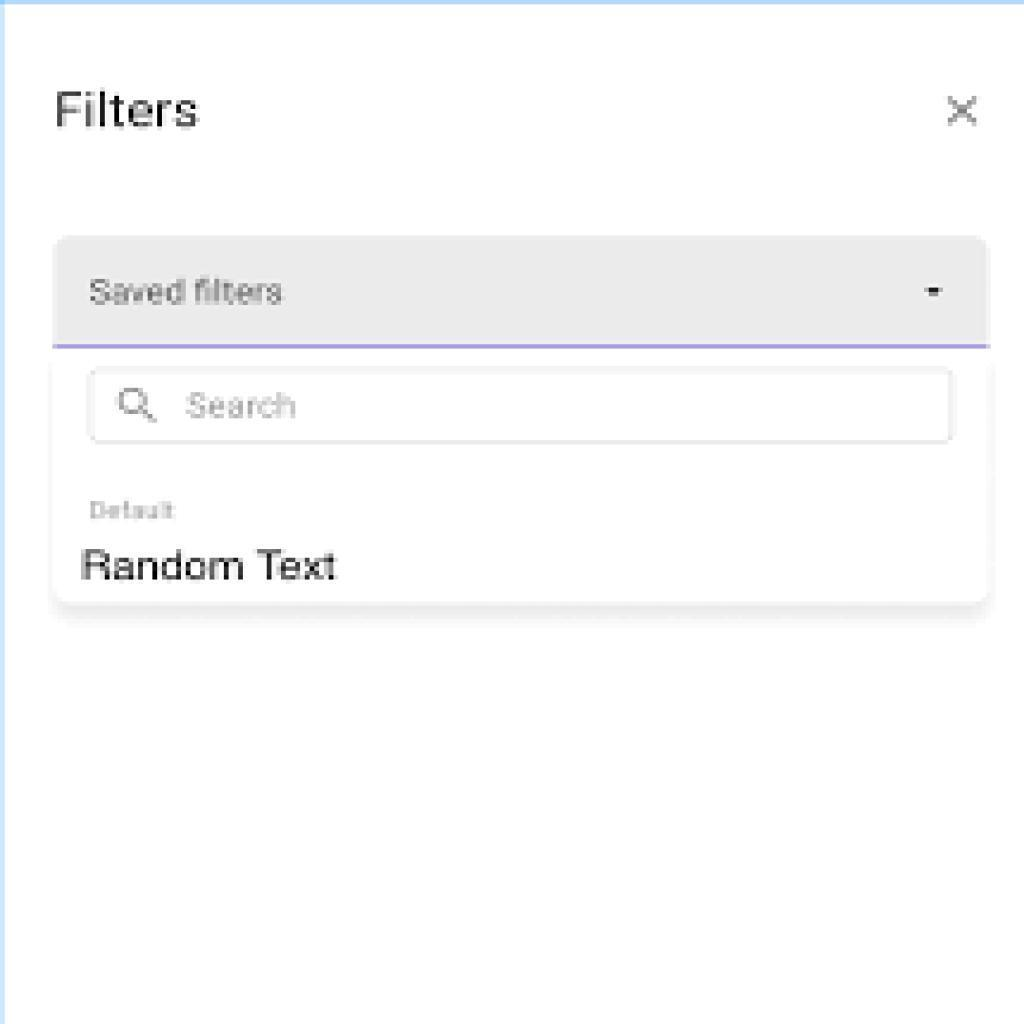dropdown: (58, 239, 989, 348)
input: (91, 369, 955, 446)
